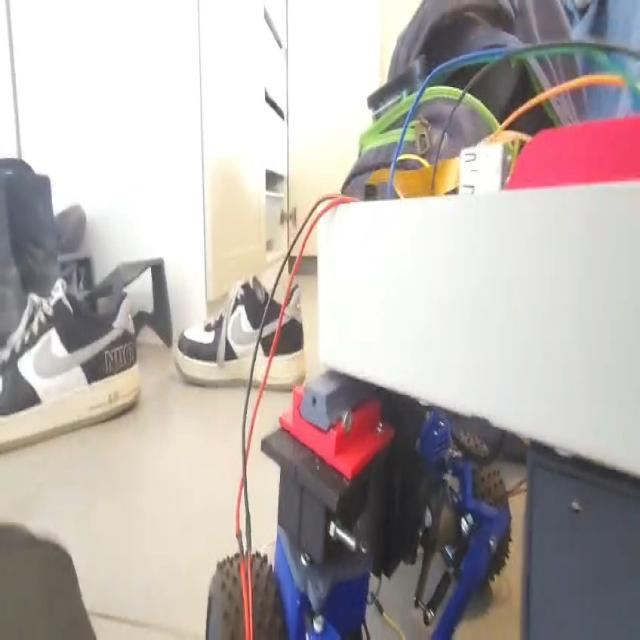Robot: (201, 104, 639, 638)
